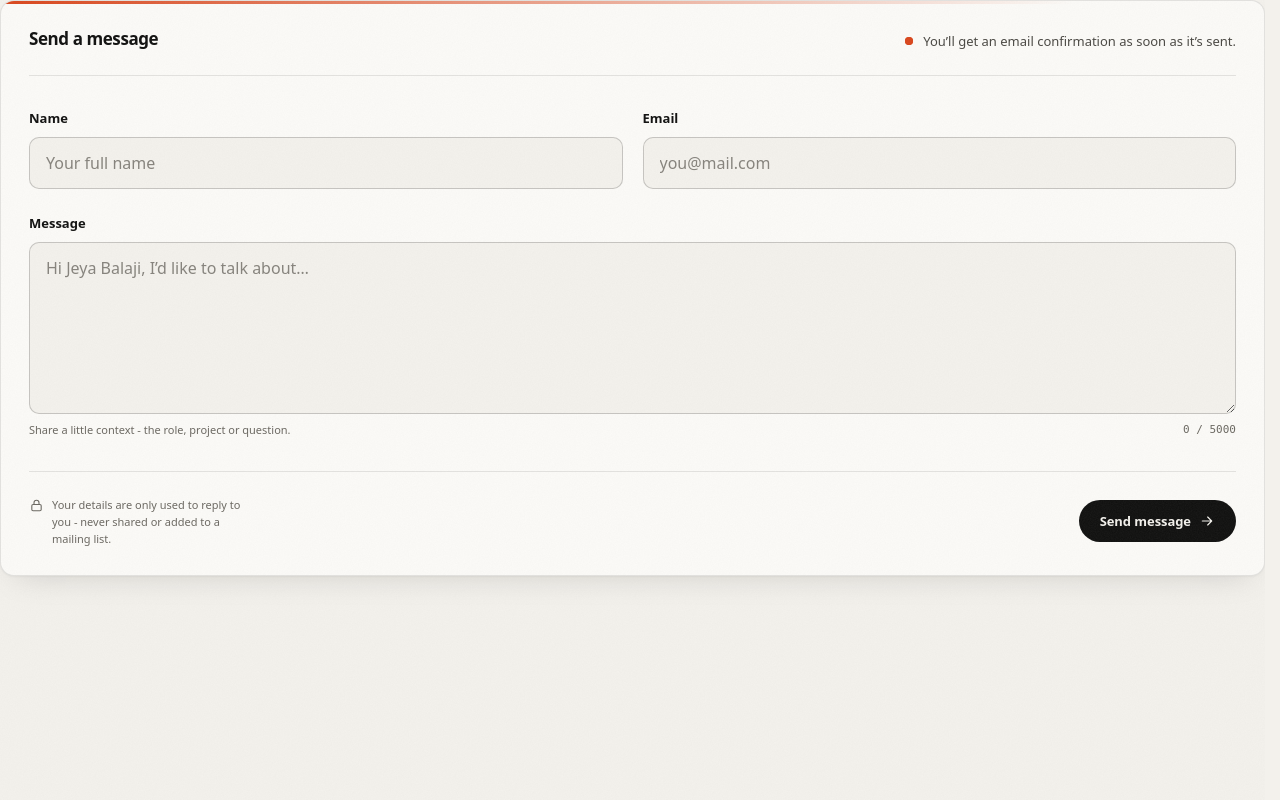
Test: ContactForm › offers the email address when the API cannot be reached
The width and height of the screenshot is (1280, 800).
Type "  Ada Lovelace " into the field labelled "Name" at (326, 163), box [29, 137, 622, 189]
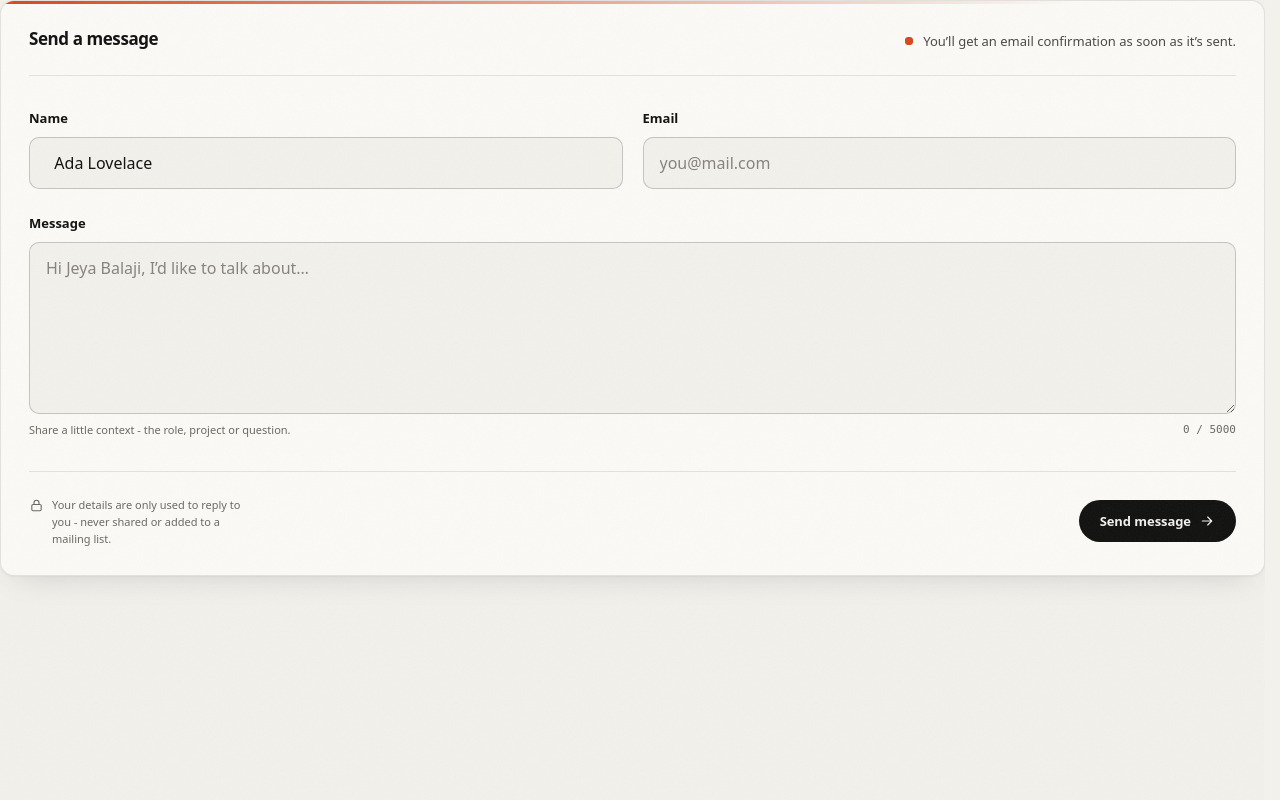
Type "ada@example.com" into the field labelled "Email" at (939, 163), box [642, 137, 1236, 189]
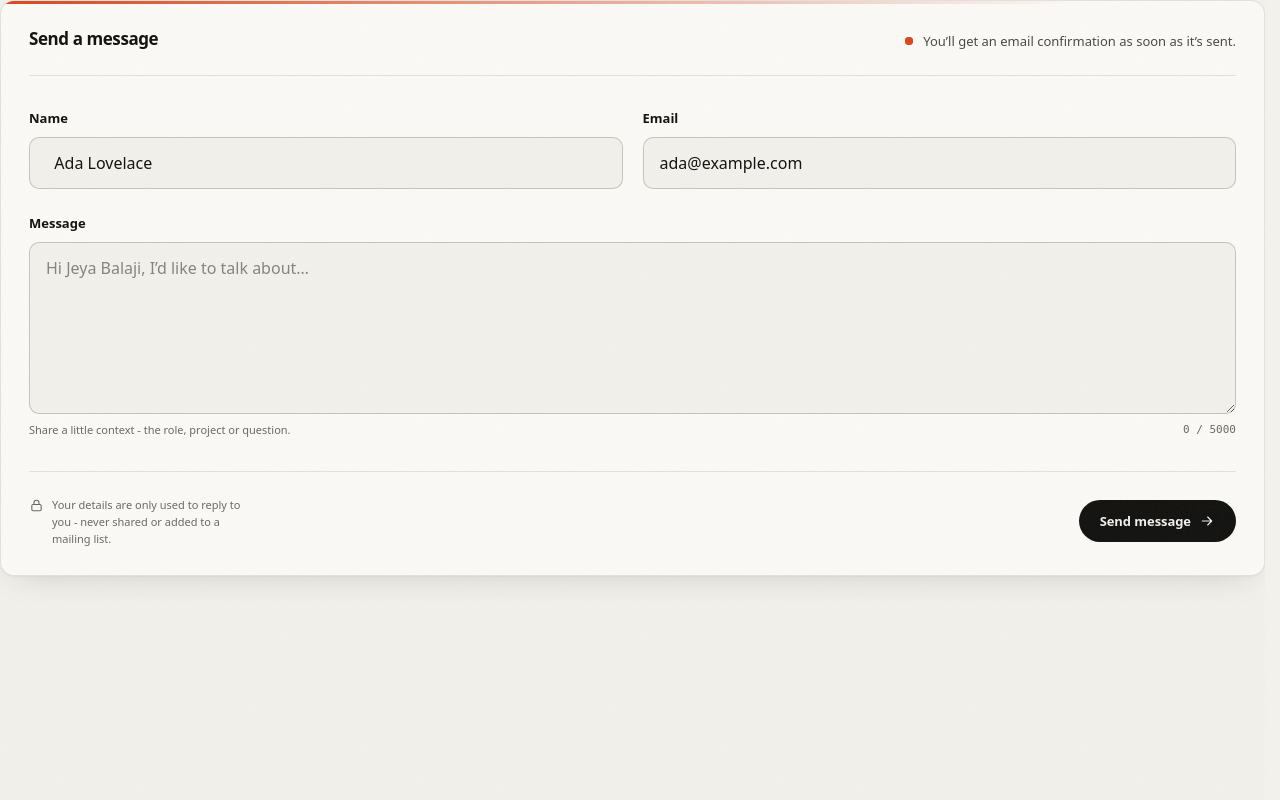
Type "I have a React dashboard that needs a rebuild." into the text box labelled "Message" at (632, 328), box [29, 242, 1236, 414]
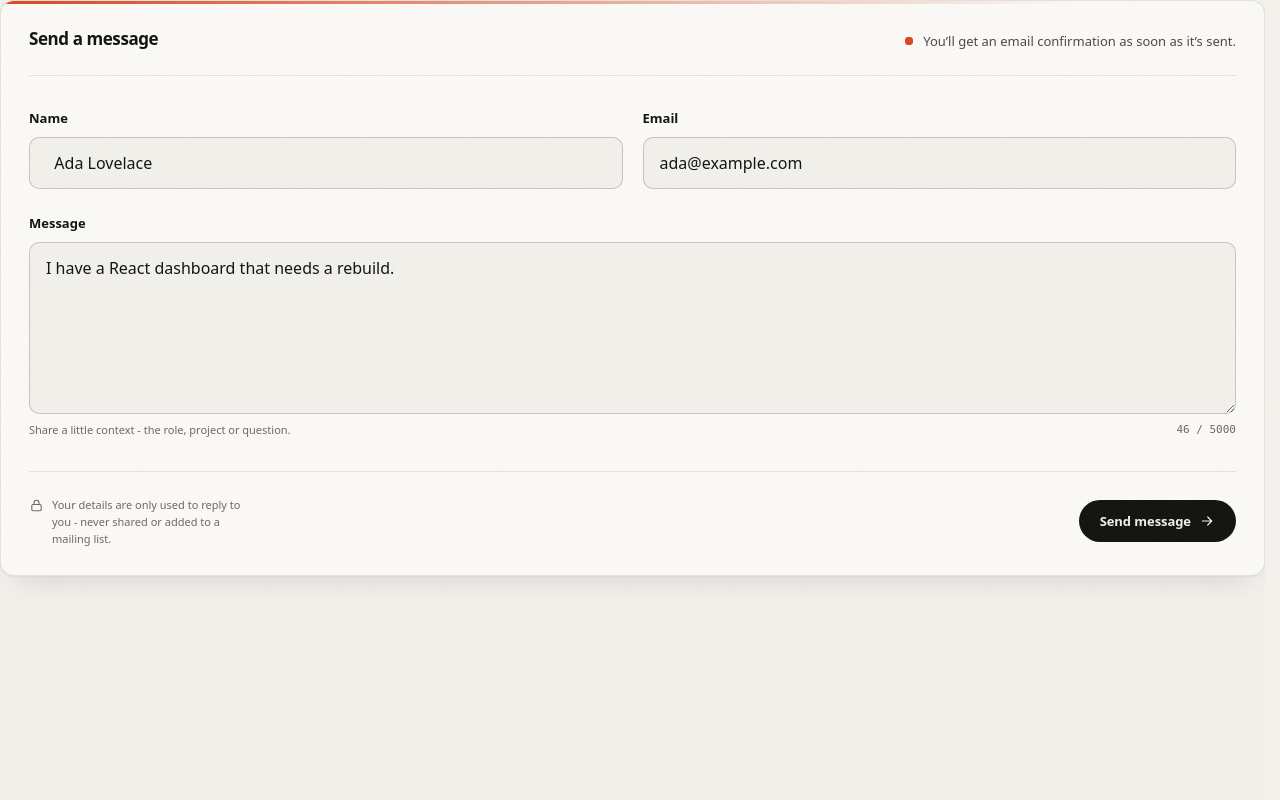
Click the button "Send message" at (1157, 521), box [1079, 500, 1236, 542]
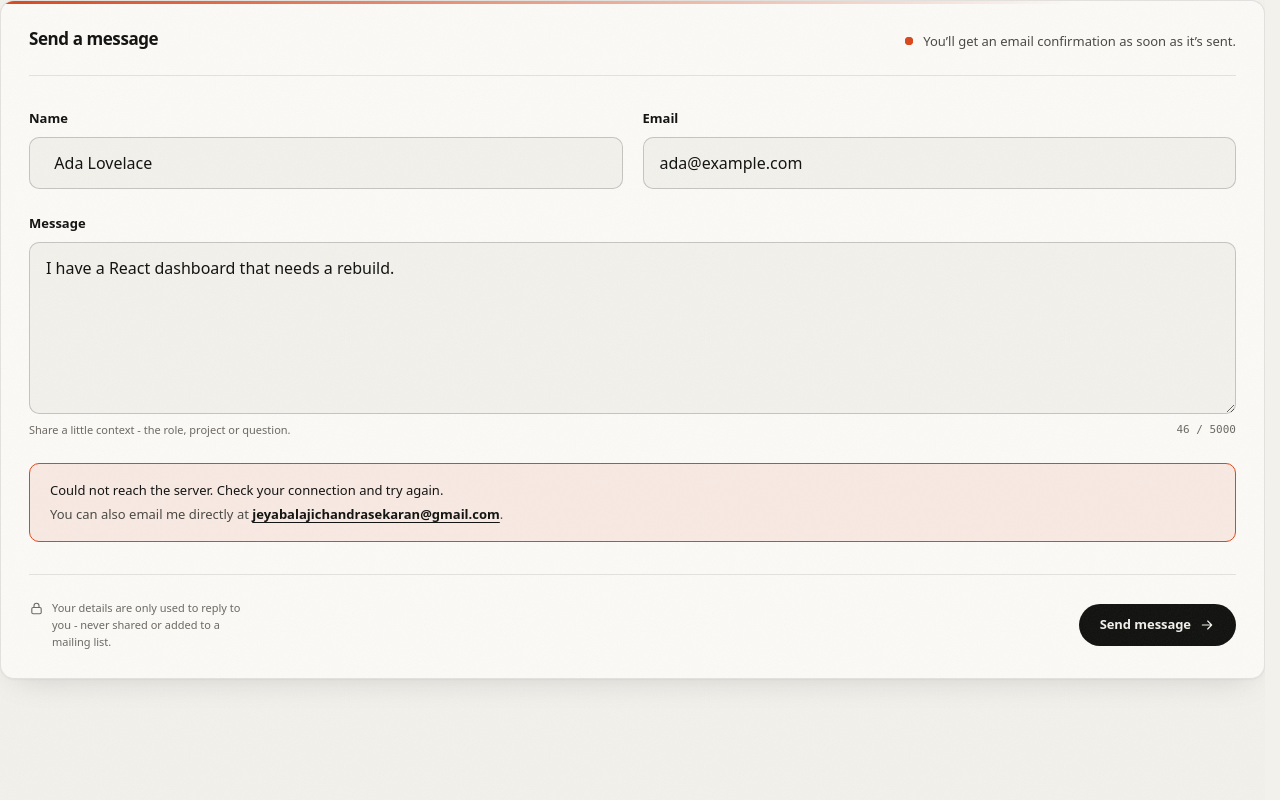
Expected: the message shows "Could not reach the server", [50, 480, 443, 498]
